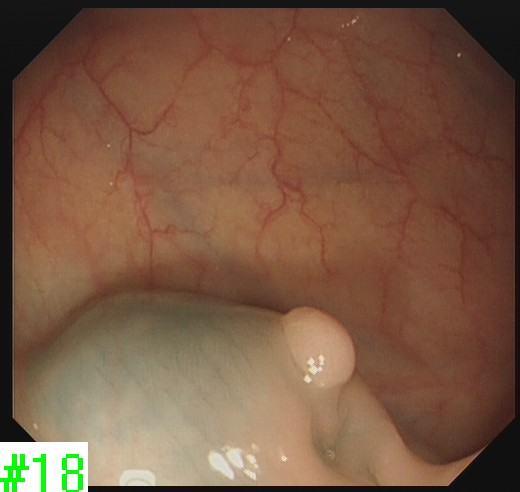adenoma: (279, 303, 358, 390)
